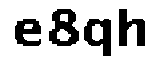8: (47, 4, 80, 50)
e: (13, 15, 44, 52)
h: (117, 4, 148, 50)
q: (83, 17, 114, 60)
